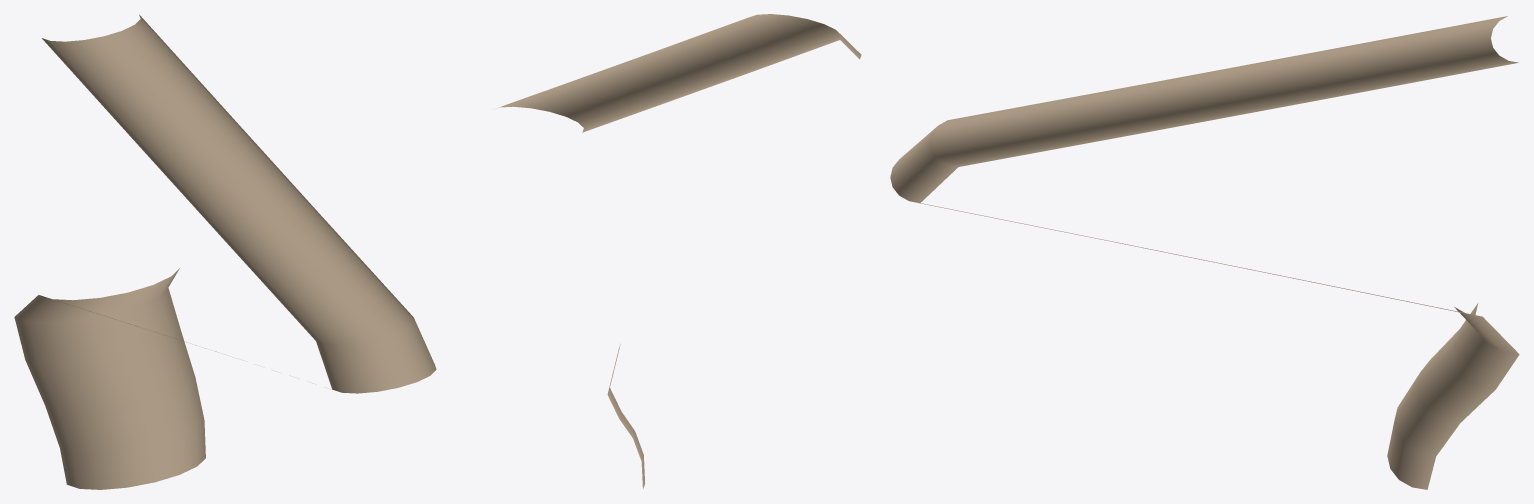
File: button.glb
3 renders of one model, left to right at view 1: azimuth 30°, elevation 25°; view 2: azimuth 150°, elevation 25°; view 3: azimuth 270°, elevation 25°, orthographic. The views are drawn at different scales.
Parts seen in each view (by area): view 1: noses_button; view 2: noses_button; view 3: noses_button.
Part boxes in pixels (bbox=[...]): noses_button: bbox=[14, 14, 436, 489]; noses_button: bbox=[496, 14, 861, 488]; noses_button: bbox=[890, 16, 1519, 489].
Size of the model in its own units: 0.1175 by 0.3 by 0.4098.
